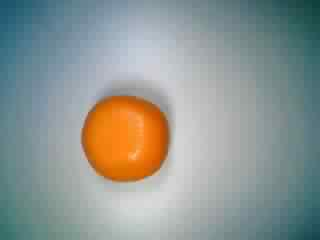orange: (78, 84, 173, 186)
